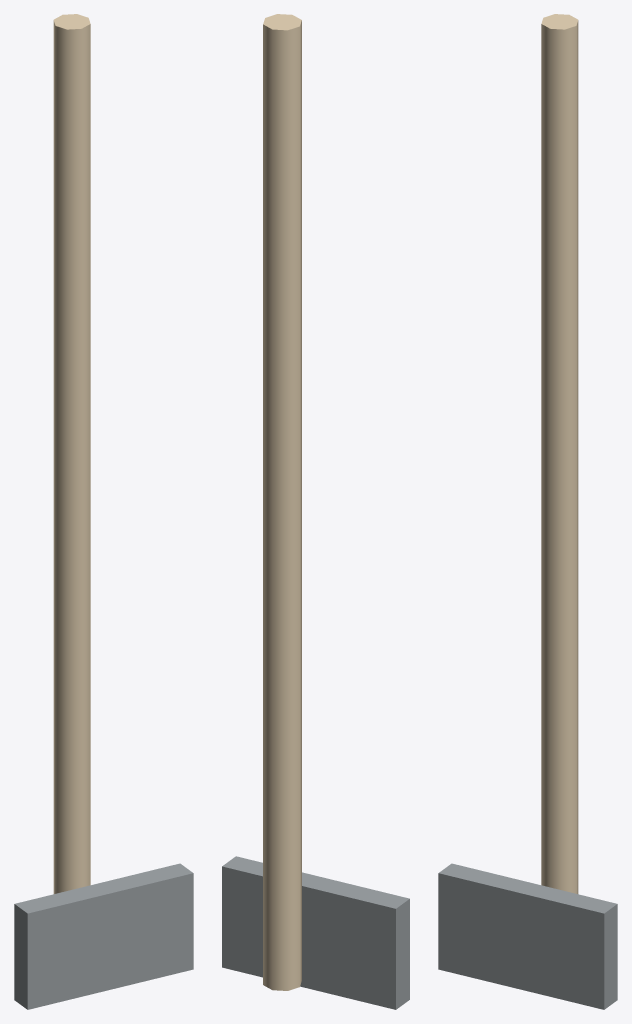
Rendered from tool_hoe.glb.
The picture shows the model from 3 angles, left to right: view 1: azimuth 30°, elevation 25°; view 2: azimuth 150°, elevation 25°; view 3: azimuth 330°, elevation 25°; orthographic projection. The views are drawn at different scales.
Parts seen in each view (by area): view 1: ToolHoe; view 2: ToolHoe; view 3: ToolHoe.
Part boxes in pixels (<box>): ToolHoe: <box>14,14,193,1009</box>; ToolHoe: <box>222,14,409,1009</box>; ToolHoe: <box>438,14,617,1009</box>.
Bounding box in the file's own units: 0.18 × 0.975 × 0.0905.
